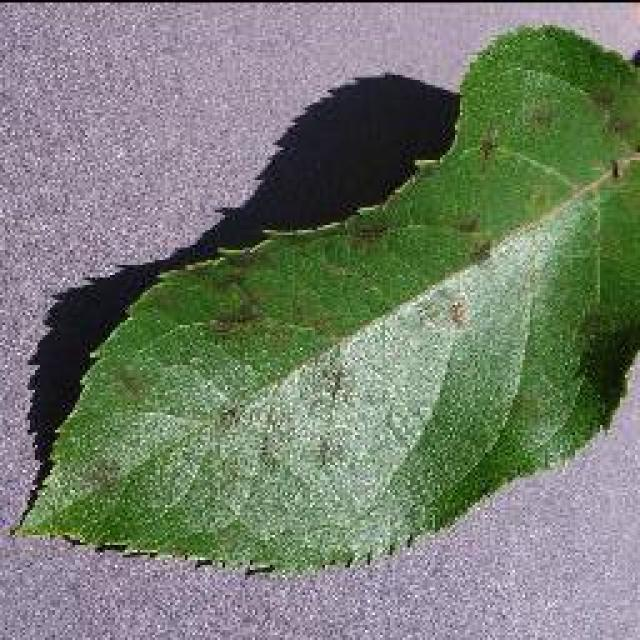apple scab disease: (10, 20, 638, 575)
